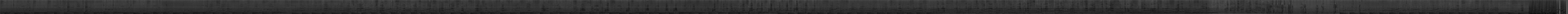Moan: (1229, 0, 1231, 14)
